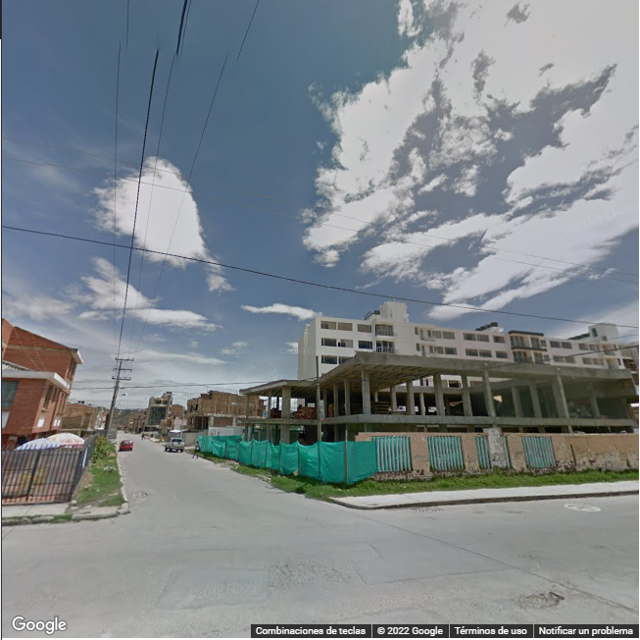D10: (362, 564, 519, 581)
D20: (266, 556, 345, 585)
D40: (518, 588, 563, 612)
